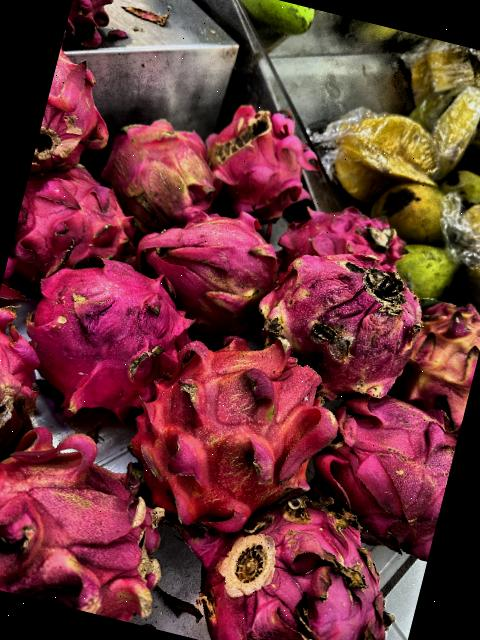buah-naga-belum-matang: (123, 199, 285, 334), (88, 109, 226, 226), (389, 288, 480, 426)
buah-naga-matang: (108, 318, 349, 538), (181, 476, 426, 640), (10, 240, 206, 430), (0, 419, 180, 625), (250, 231, 443, 406), (306, 380, 464, 560), (189, 87, 336, 230), (9, 157, 154, 286), (278, 186, 418, 276), (32, 52, 127, 180), (0, 306, 56, 464), (63, 0, 133, 50)
